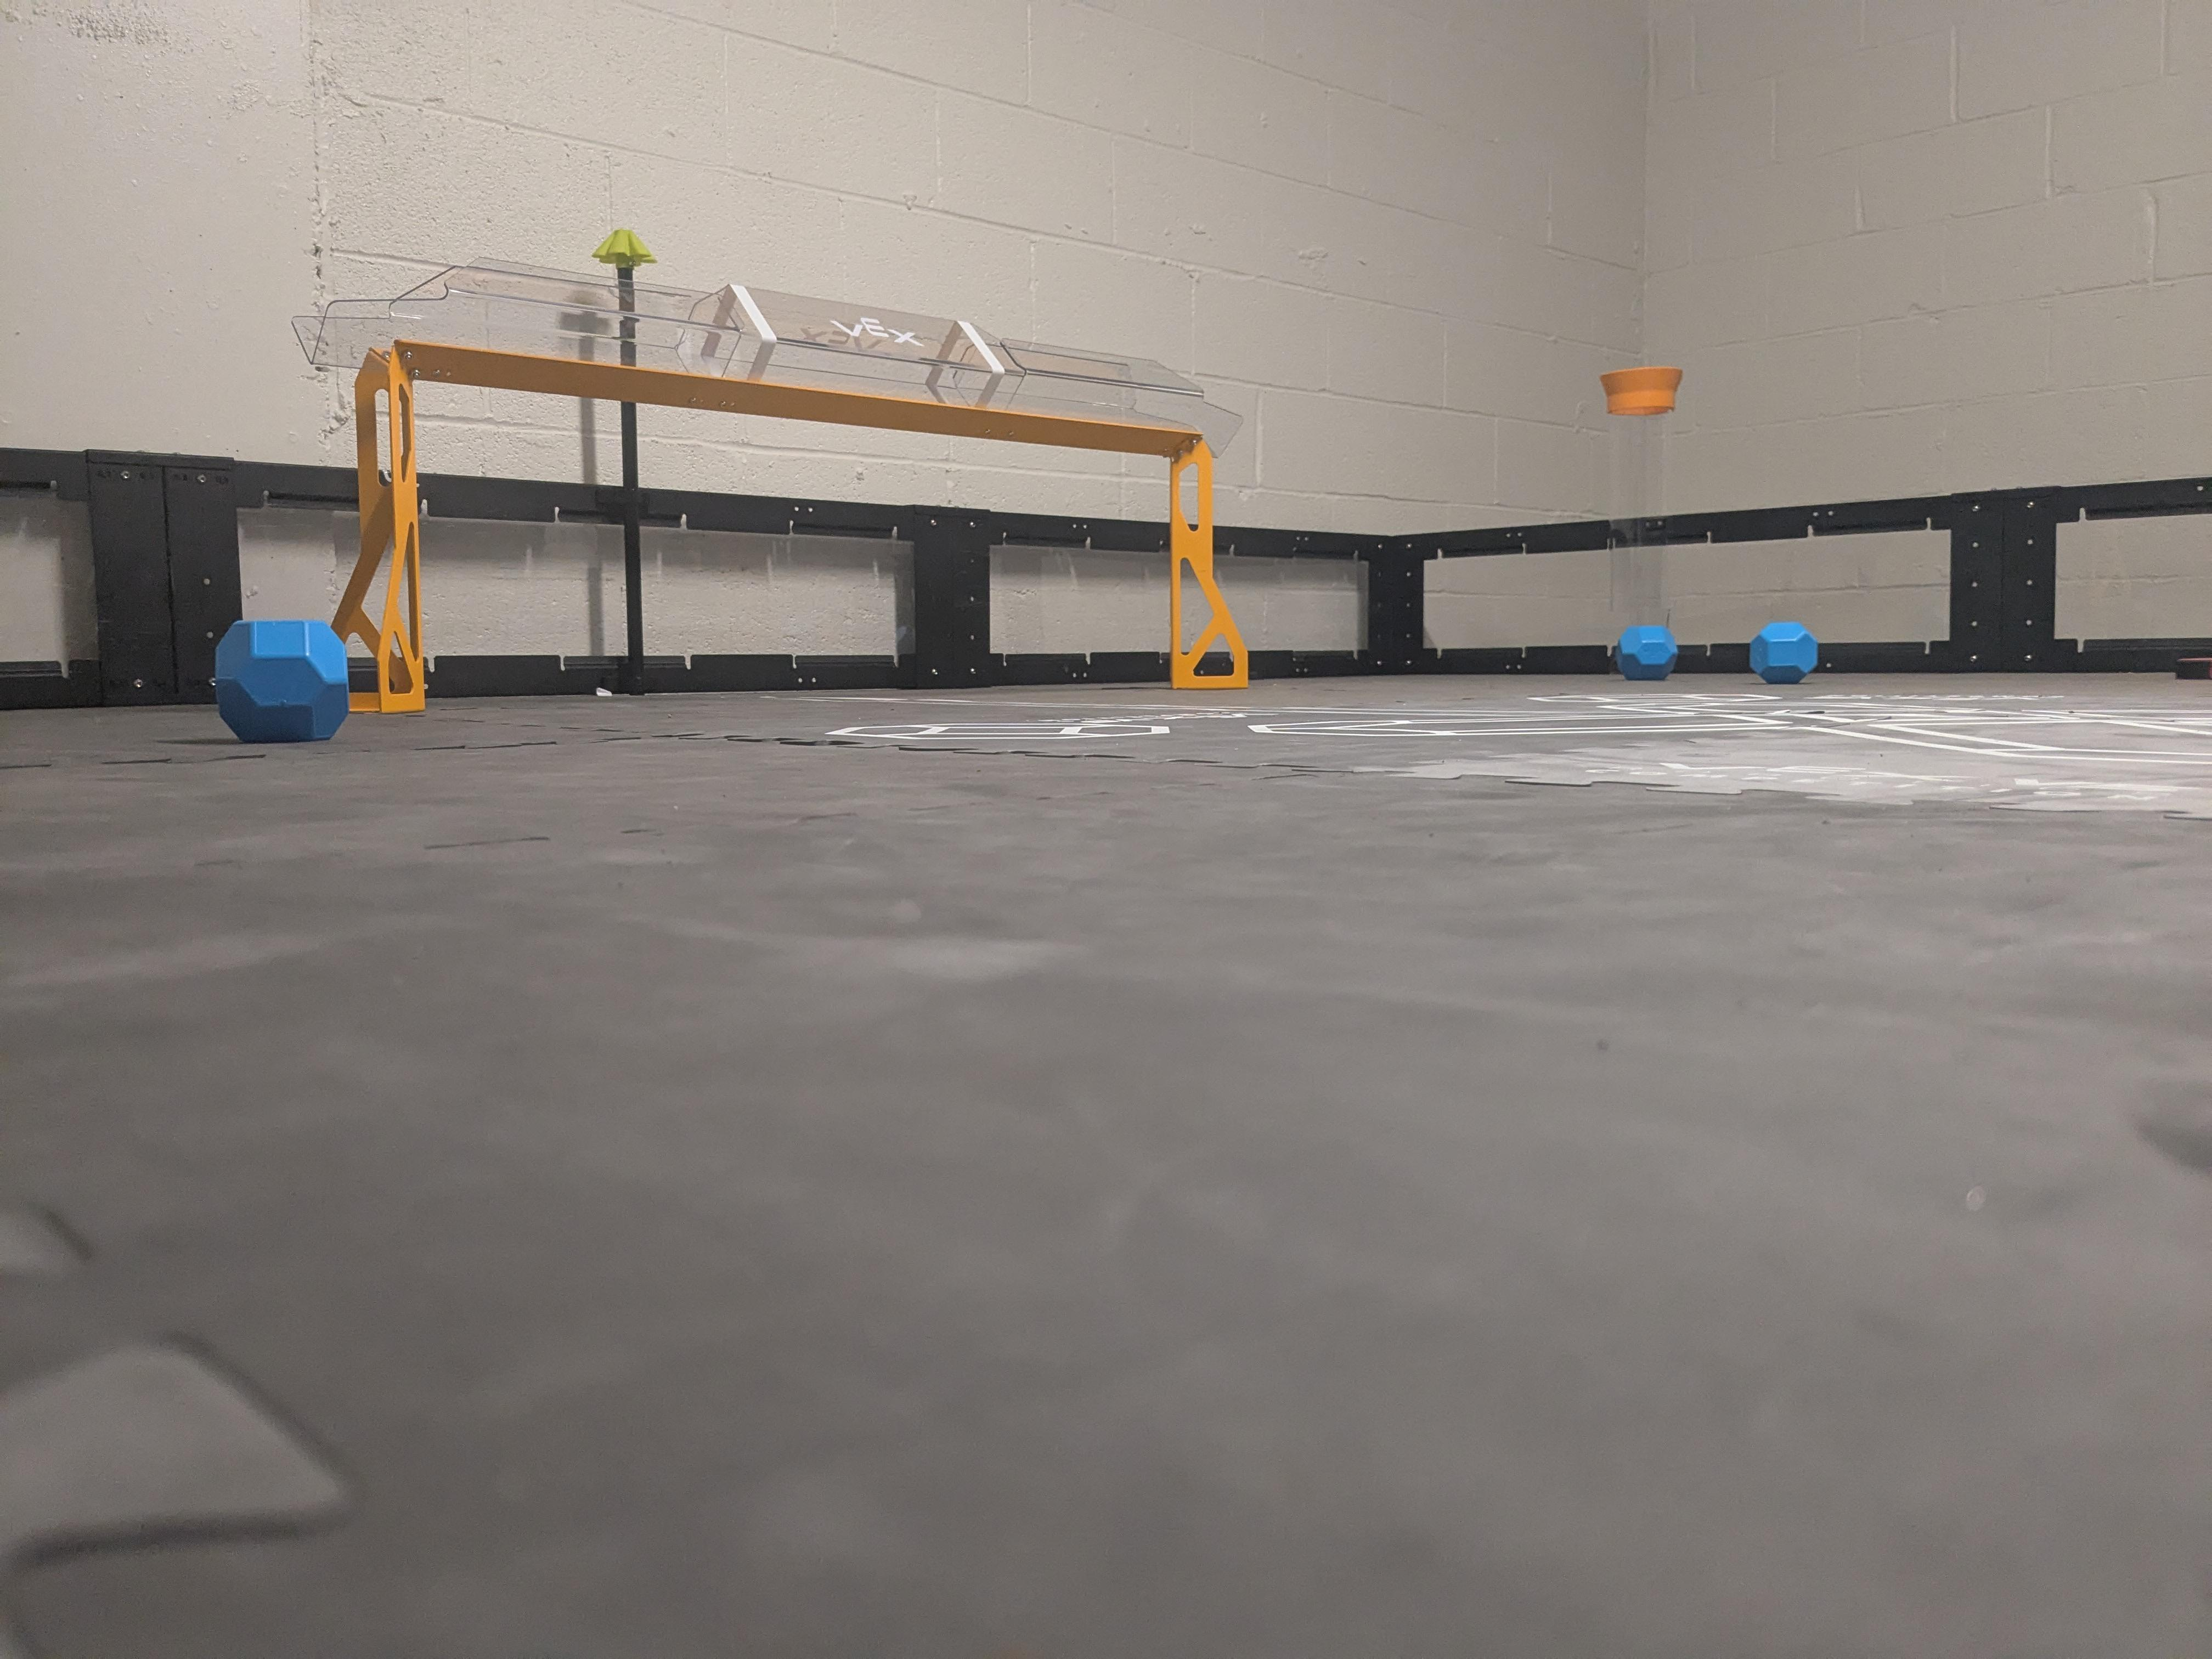Vex-Pieces-BLUE: (214, 619, 345, 744), (1749, 624, 1820, 681), (1615, 626, 1677, 680)
